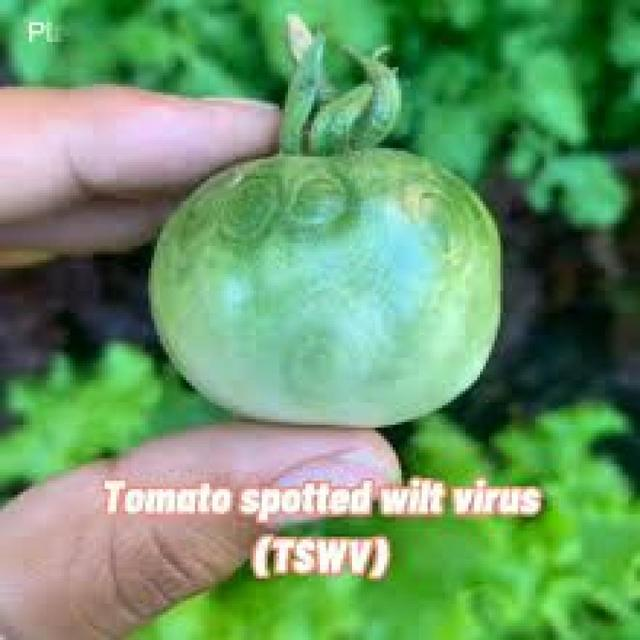Spotted wilt Virus Fruit: (99, 96, 339, 286)
